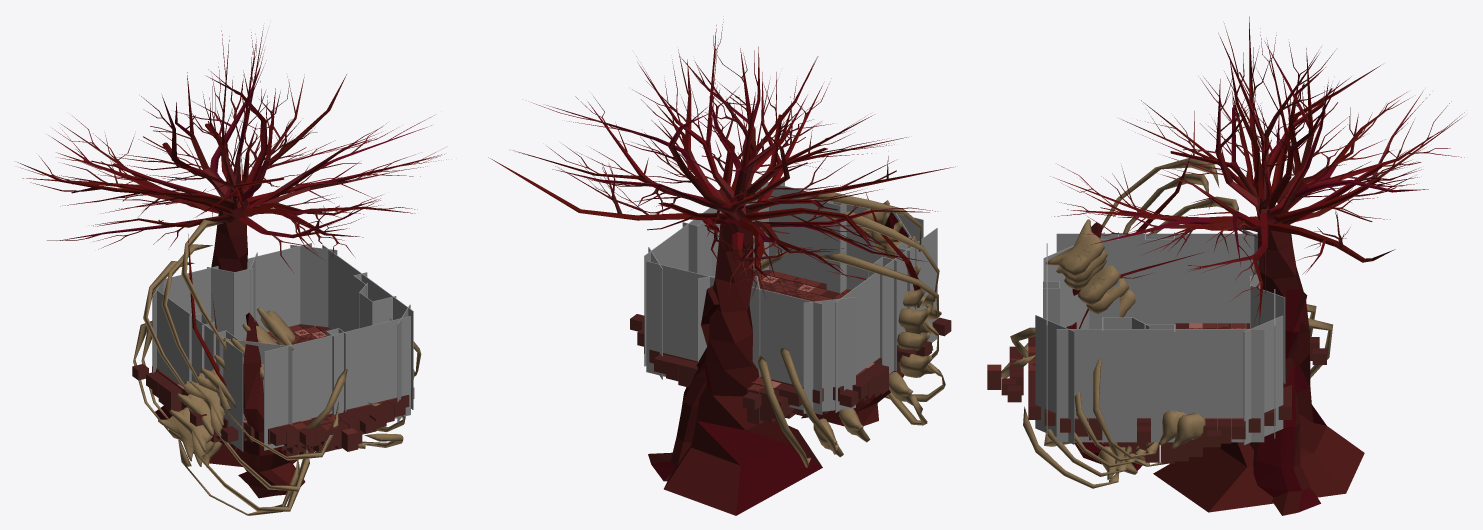
Rendered from stage04.FBX.
The picture shows the model from 3 angles, left to right: view 1: azimuth 30°, elevation 25°; view 2: azimuth 150°, elevation 25°; view 3: azimuth 270°, elevation 25°; orthographic projection. The views are drawn at different scales.
Parts seen in each view (by area): view 1: tree03 (×2), bone01, Box004, Box006, Box005, Box003, tree01, Box008, Box016, Box014, Box009, bone02; view 2: tree03 (×2), tree01, bone01, Box005, Box006, Box004, Box010, Box003, Box020, Box023, Box015; view 3: tree03 (×2), Box003, tree01, Box006, bone01, bone02, Box008, Box007, Box017, Box009, Box015, Box025 (+1 smaller).
Part boxes in pixels (bbox=[...]): tree03 (×2): bbox=[17, 25, 446, 498]; bone01: bbox=[133, 219, 347, 515]; Box004: bbox=[264, 316, 410, 450]; Box006: bbox=[152, 289, 243, 451]; Box005: bbox=[156, 243, 311, 331]; Box003: bbox=[322, 245, 413, 409]; tree01: bbox=[155, 205, 297, 466]; Box008: bbox=[290, 245, 337, 327]; Box016: bbox=[207, 267, 234, 335]; Box014: bbox=[233, 268, 253, 340]; Box009: bbox=[219, 338, 292, 432]; bone02: bbox=[358, 318, 421, 448]; tree03 (×2): bbox=[488, 19, 955, 426]; tree01: bbox=[648, 217, 822, 515]; bone01: bbox=[758, 192, 945, 467]; Box005: bbox=[646, 261, 822, 414]; Box006: bbox=[835, 228, 937, 412]; Box004: bbox=[767, 182, 923, 289]; Box010: bbox=[803, 297, 855, 413]; Box003: bbox=[644, 207, 722, 366]; Box020: bbox=[826, 202, 840, 293]; Box023: bbox=[696, 222, 711, 276]; Box015: bbox=[697, 275, 715, 362]; tree03 (×2): bbox=[1053, 16, 1464, 470]; Box003: bbox=[1056, 329, 1264, 442]; tree01: bbox=[1153, 211, 1364, 515]; Box006: bbox=[1056, 233, 1257, 328]; bone01: bbox=[1001, 158, 1332, 446]; bone02: bbox=[1023, 357, 1205, 488]; Box008: bbox=[1243, 315, 1283, 445]; Box007: bbox=[1035, 315, 1074, 444]; Box017: bbox=[1145, 239, 1175, 324]; Box009: bbox=[1043, 232, 1104, 328]; Box015: bbox=[1250, 285, 1285, 383]; Box025: bbox=[1089, 239, 1119, 328].
Size of the model in its own units: 61.14 by 58.4 by 55.12.
Materials: 11 (10 with a texture image).
